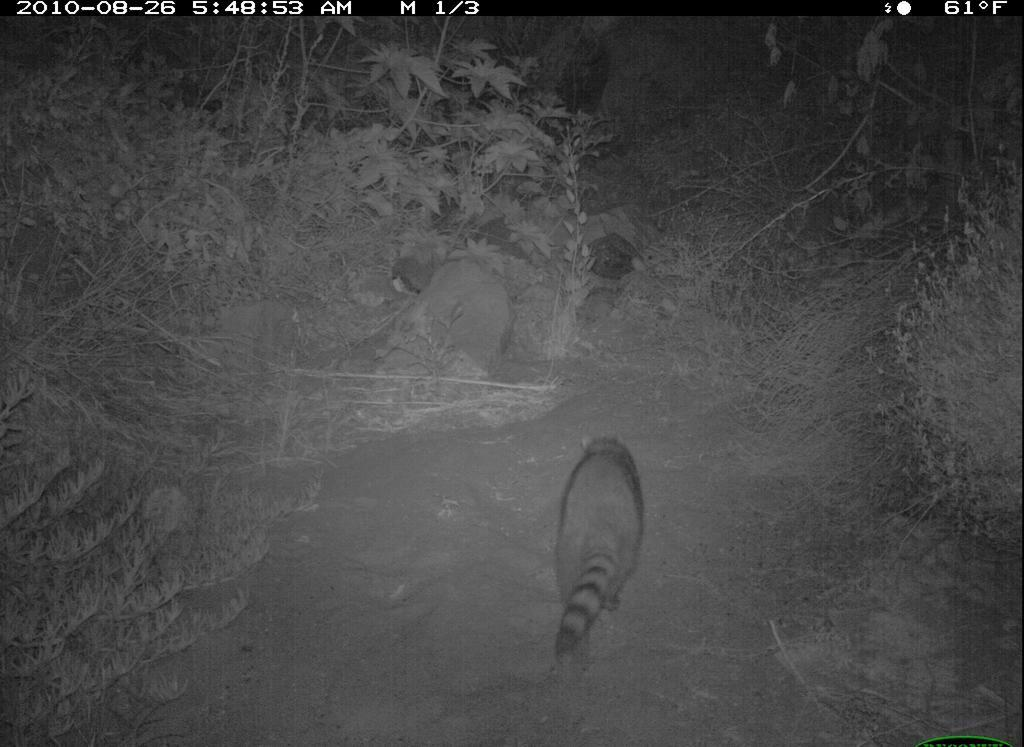raccoon: (547, 431, 651, 666)
